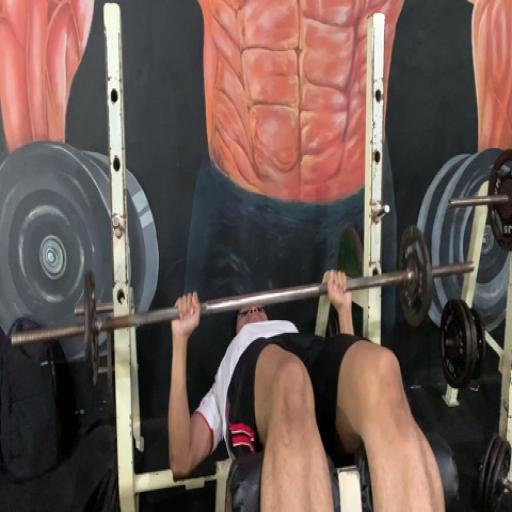exercise: (165, 268, 449, 510)
